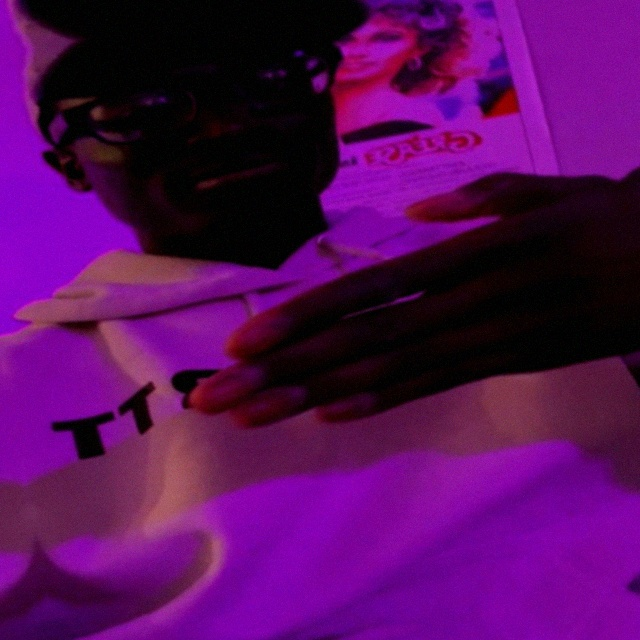Paper: (160, 149, 640, 447)
